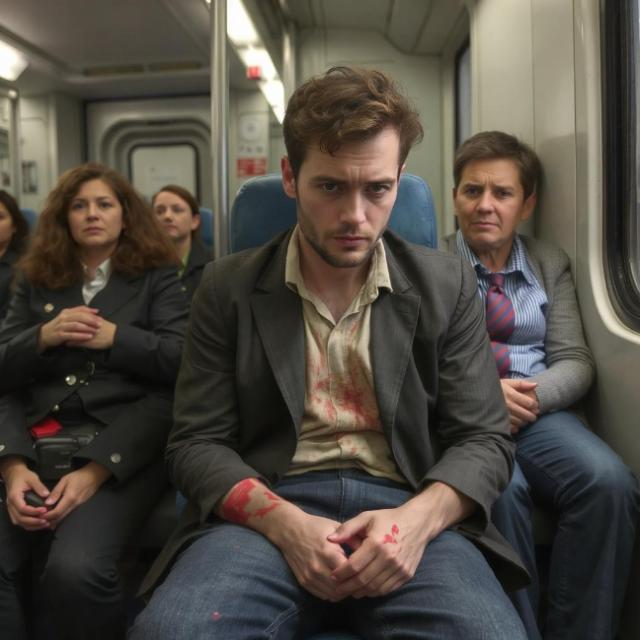Medical_Assistance: (205, 69, 436, 638)
